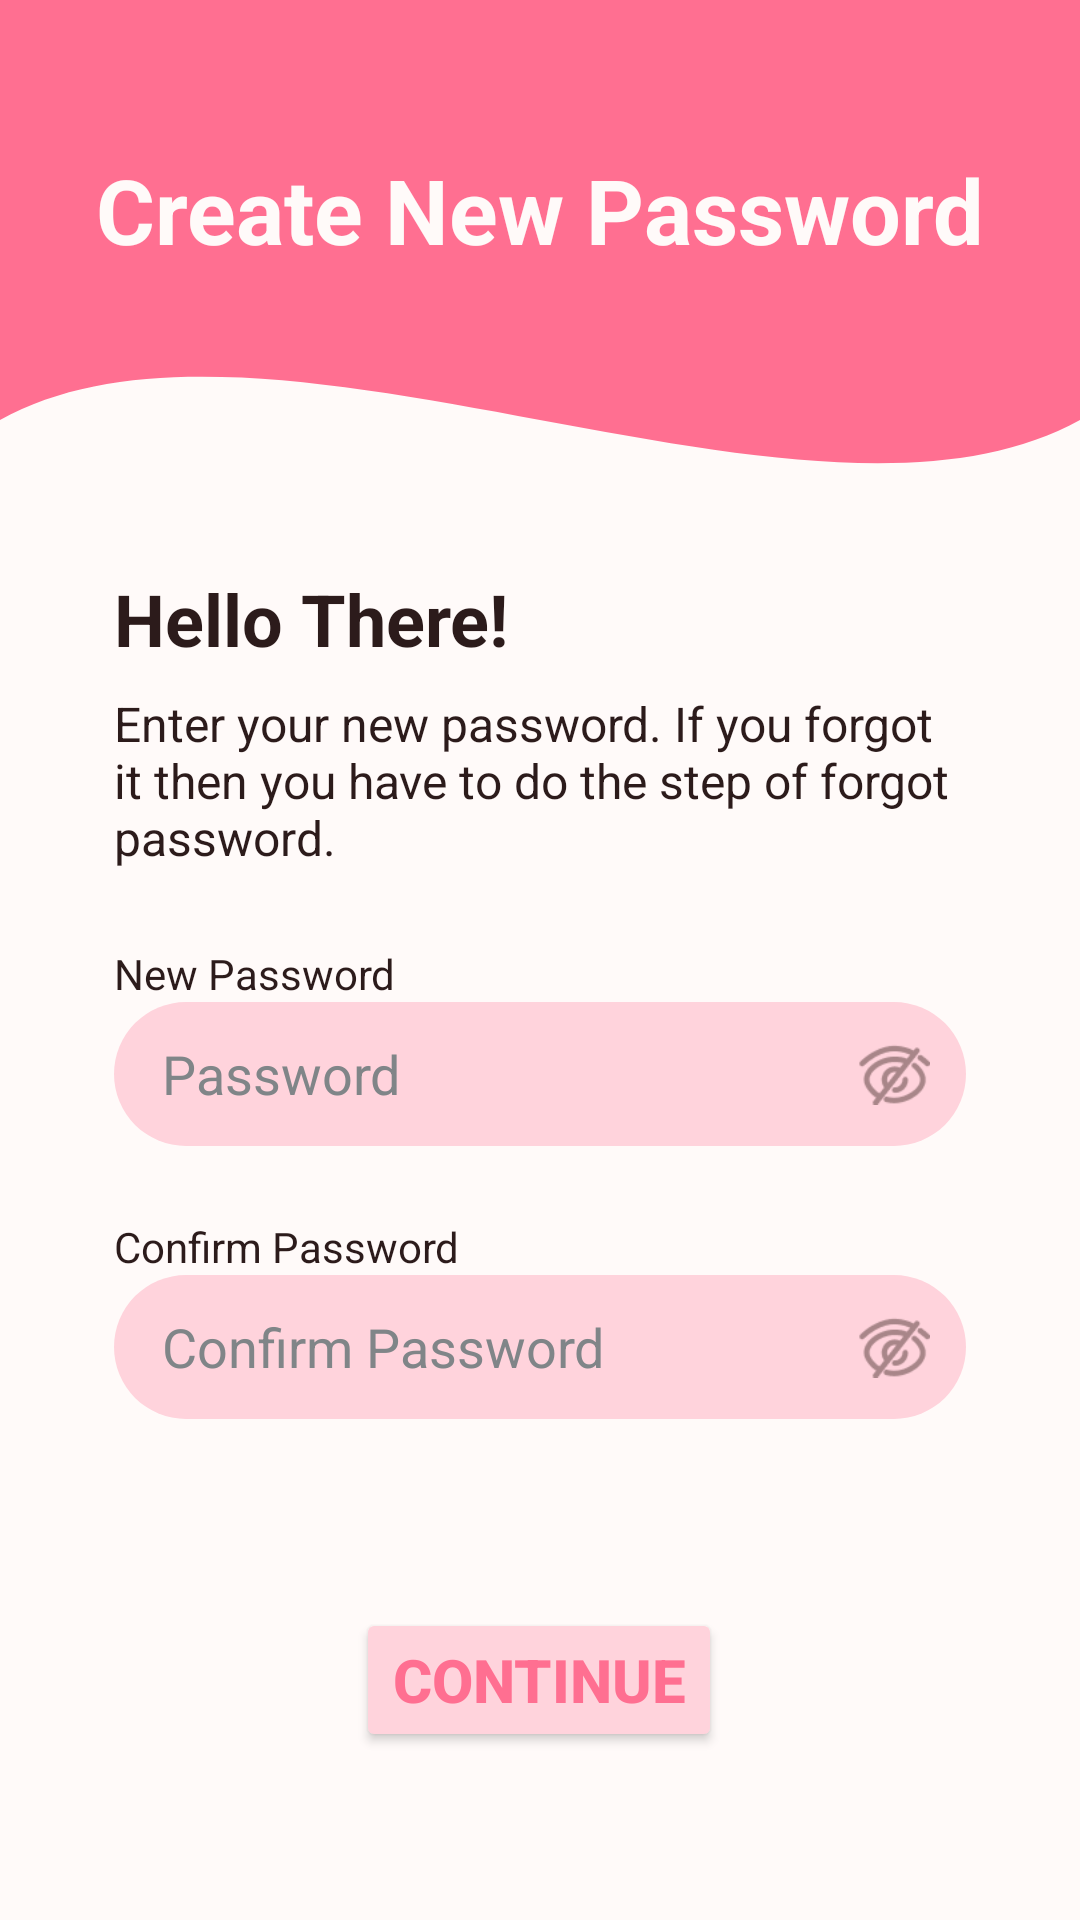

Screen size 1080px x 1920px. Icon name, then its center in pixels as (x=x, y=y):
eye off: (x=894, y=1075), (x=894, y=1348)
